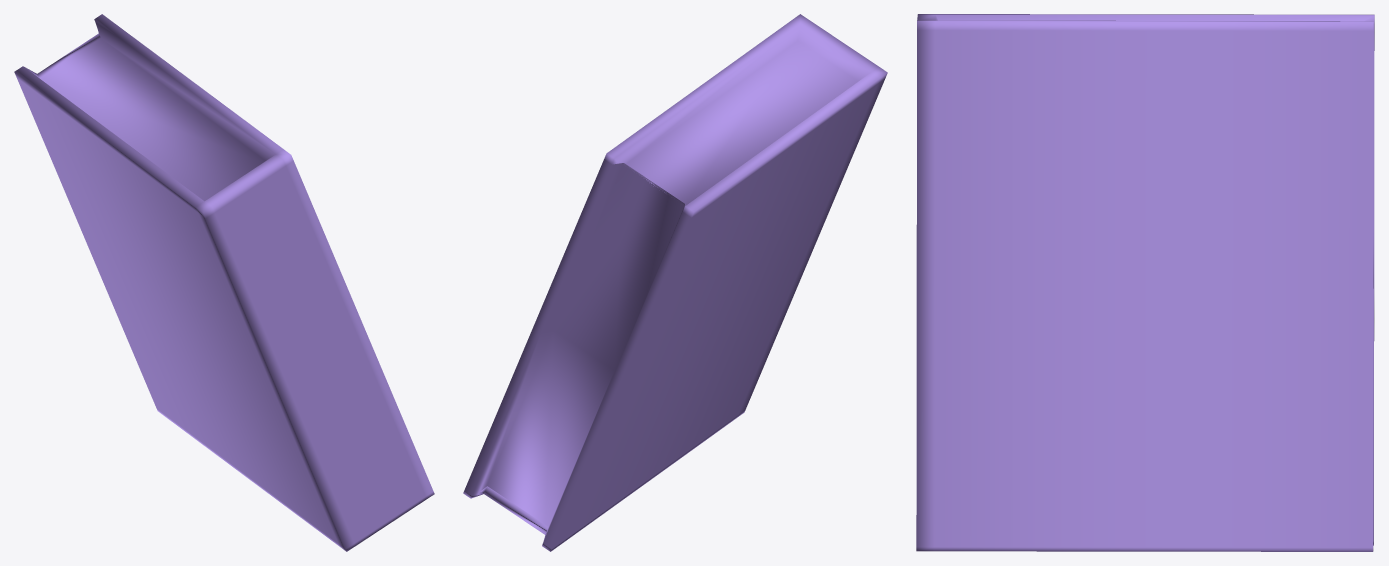
Rendered from K-Book_5.fbx.
The picture shows the model from 3 angles, left to right: view 1: azimuth 30°, elevation 25°; view 2: azimuth 150°, elevation 25°; view 3: azimuth 270°, elevation 25°; orthographic projection. The views are drawn at different scales.
Visible parts, largest first — view 1: Book.008; view 2: Book.008; view 3: Book.008.
Boxes of the visible parts, left/top/right/bottom form: Book.008: left=14, top=14, right=434, bottom=551; Book.008: left=463, top=14, right=887, bottom=551; Book.008: left=916, top=14, right=1374, bottom=551.
Size of the model in its own units: 22.72 by 38.34 by 32.41.
